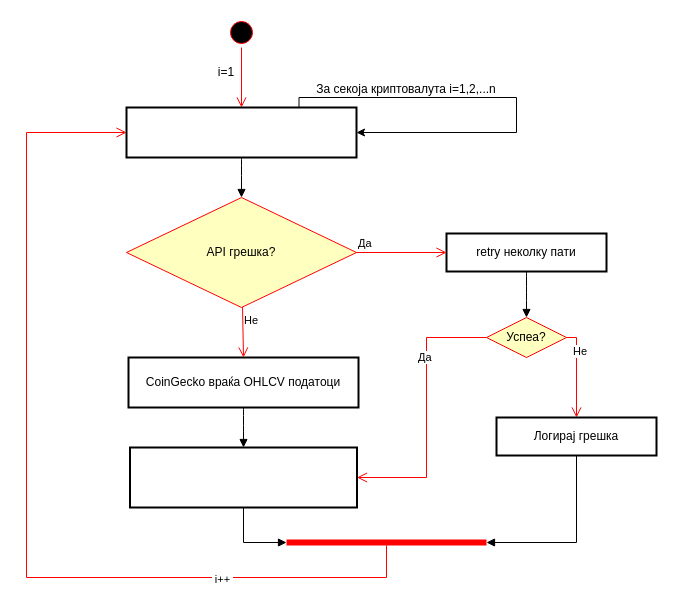
Some shapes in this 675 by 605 pixel diagram are drawn without their labels. The shapes that lost their labels are listed below. From the top down, each one's centre as x and y in pixels, then its label:
At point (241, 132): "Системот формулира API повик за недостасувачкиот период".
At point (243, 477): "Системот ги складира податоците локално во привремена меморија за обработка".
